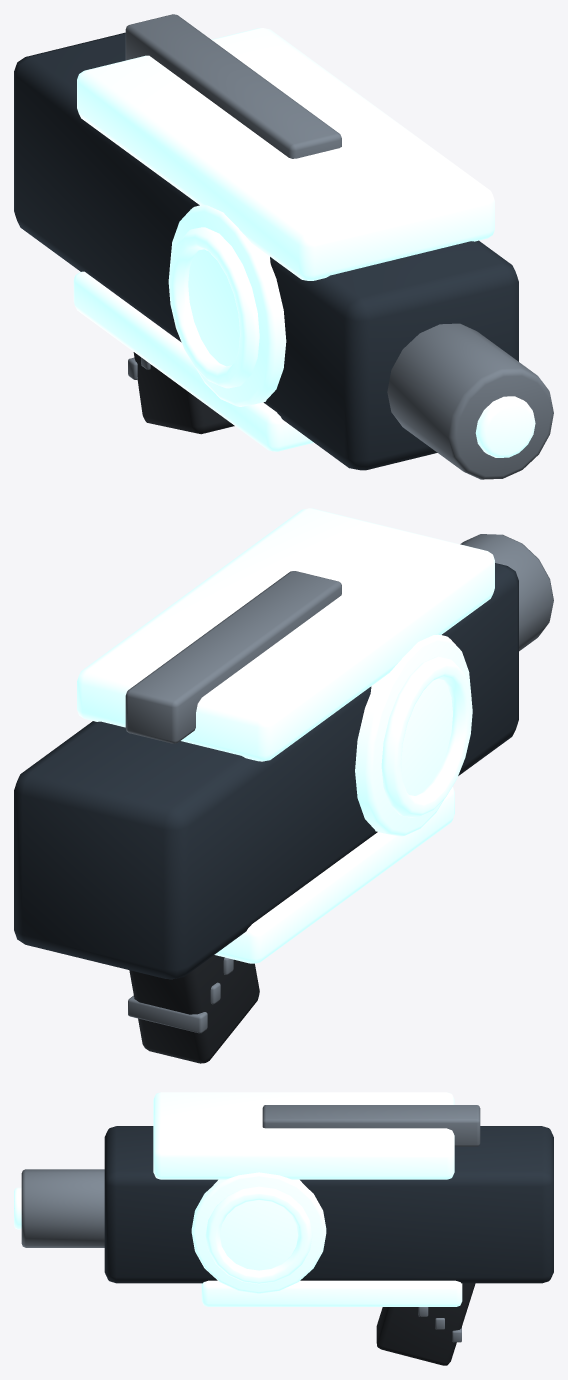
The model's file is Soldier_Spinfusor.fbx.
The picture shows the model from 3 angles, top to bottom: view 1: azimuth 30°, elevation 25°; view 2: azimuth 150°, elevation 25°; view 3: azimuth 270°, elevation 25°; orthographic projection. The views are drawn at different scales.
Visible parts, largest first — view 1: Receiver.006, UpperArmor.003, Muzzle.003, TopRail.006, EnergyChamber.003, LowerArmor.003, EnergyRingLeft.003, Grip.006, MuzzleGlow.003; view 2: Receiver.006, UpperArmor.003, TopRail.006, EnergyChamber.003, LowerArmor.003, Grip.006, EnergyRingLeft.003, Muzzle.003, GripRib_03.006; view 3: Receiver.006, UpperArmor.003, EnergyChamber.003, Muzzle.003, LowerArmor.003, TopRail.006, Grip.006, EnergyRingRight.003.
Boxes of the visible parts, x1,y1,x2,y2 form: Receiver.006: (14,32,518,470); UpperArmor.003: (77,28,494,280); Muzzle.003: (387,323,553,479); TopRail.006: (125,14,341,158); EnergyChamber.003: (169,205,286,406); LowerArmor.003: (73,271,313,451); EnergyRingLeft.003: (168,227,259,388); Grip.006: (133,352,234,434); MuzzleGlow.003: (475,396,535,457); Receiver.006: (14,563,518,979); UpperArmor.003: (77,508,494,761); TopRail.006: (125,571,341,743); EnergyChamber.003: (355,634,471,836); LowerArmor.003: (214,787,454,963); Grip.006: (129,955,259,1063); EnergyRingLeft.003: (381,656,472,817); Muzzle.003: (460,534,553,651); GripRib_03.006: (128,995,207,1033); Receiver.006: (104,1126,553,1283); UpperArmor.003: (153,1092,454,1179); EnergyChamber.003: (191,1172,326,1293); Muzzle.003: (21,1169,104,1247); LowerArmor.003: (201,1280,462,1306); TopRail.006: (262,1105,480,1146); Grip.006: (376,1283,475,1365); EnergyRingRight.003: (205,1186,312,1284).
Size of the model in its own units: 122 by 193 by 385.
